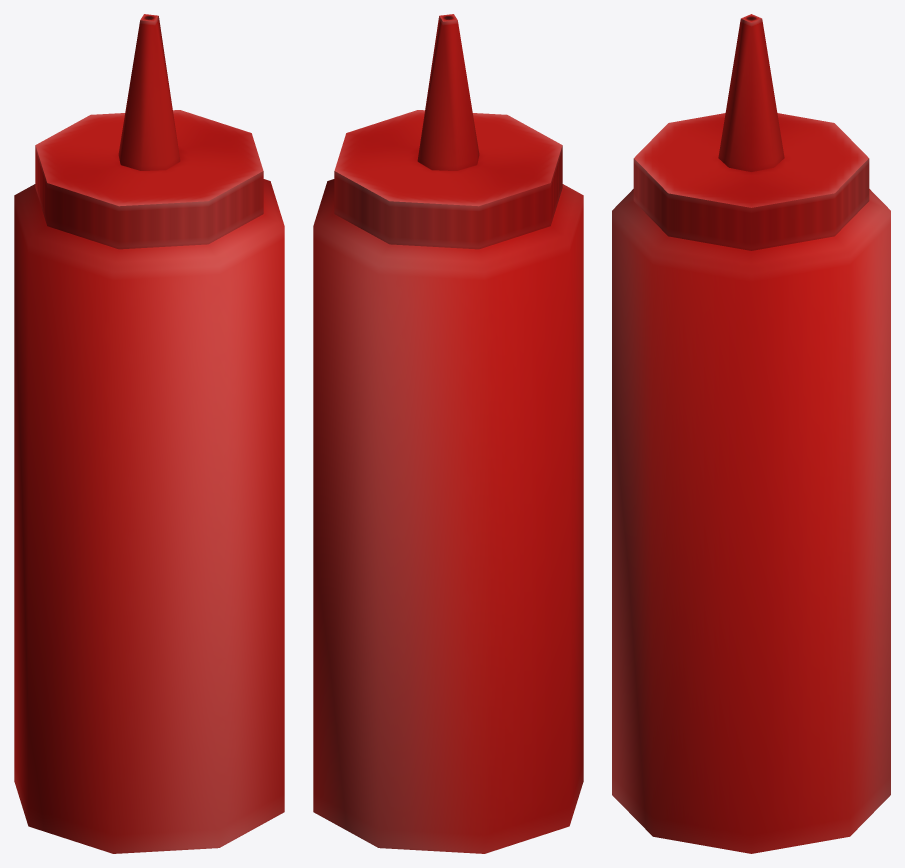
File: jsf_Ketchup_01.fbx
The picture shows the model from 3 angles, left to right: view 1: azimuth 30°, elevation 25°; view 2: azimuth 150°, elevation 25°; view 3: azimuth 270°, elevation 25°; orthographic projection.
Visible parts, largest first — view 1: jsf_Ketchup_01; view 2: jsf_Ketchup_01; view 3: jsf_Ketchup_01.
Boxes of the visible parts, <box> form: jsf_Ketchup_01: <box>14,14,284,853</box>; jsf_Ketchup_01: <box>313,14,583,853</box>; jsf_Ketchup_01: <box>612,14,890,853</box>.
Size of the model in its own units: 6.9 by 21.21 by 6.9.
